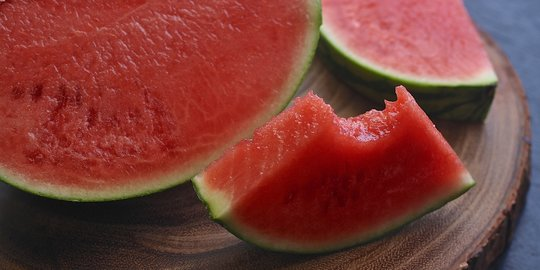Semangka: (194, 87, 462, 250)
